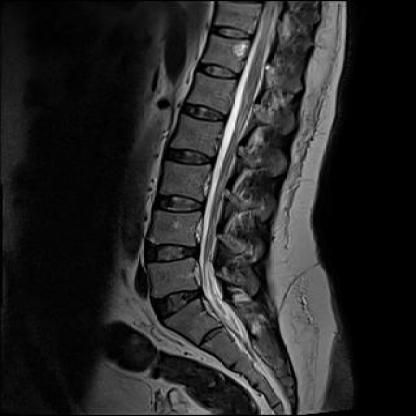Disc Bulgerotation: (148, 286, 209, 321), (139, 237, 205, 264)
